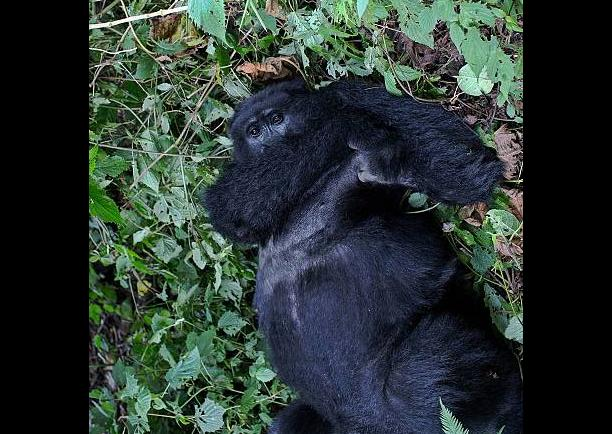goriile_montagne: (200, 42, 498, 434)
